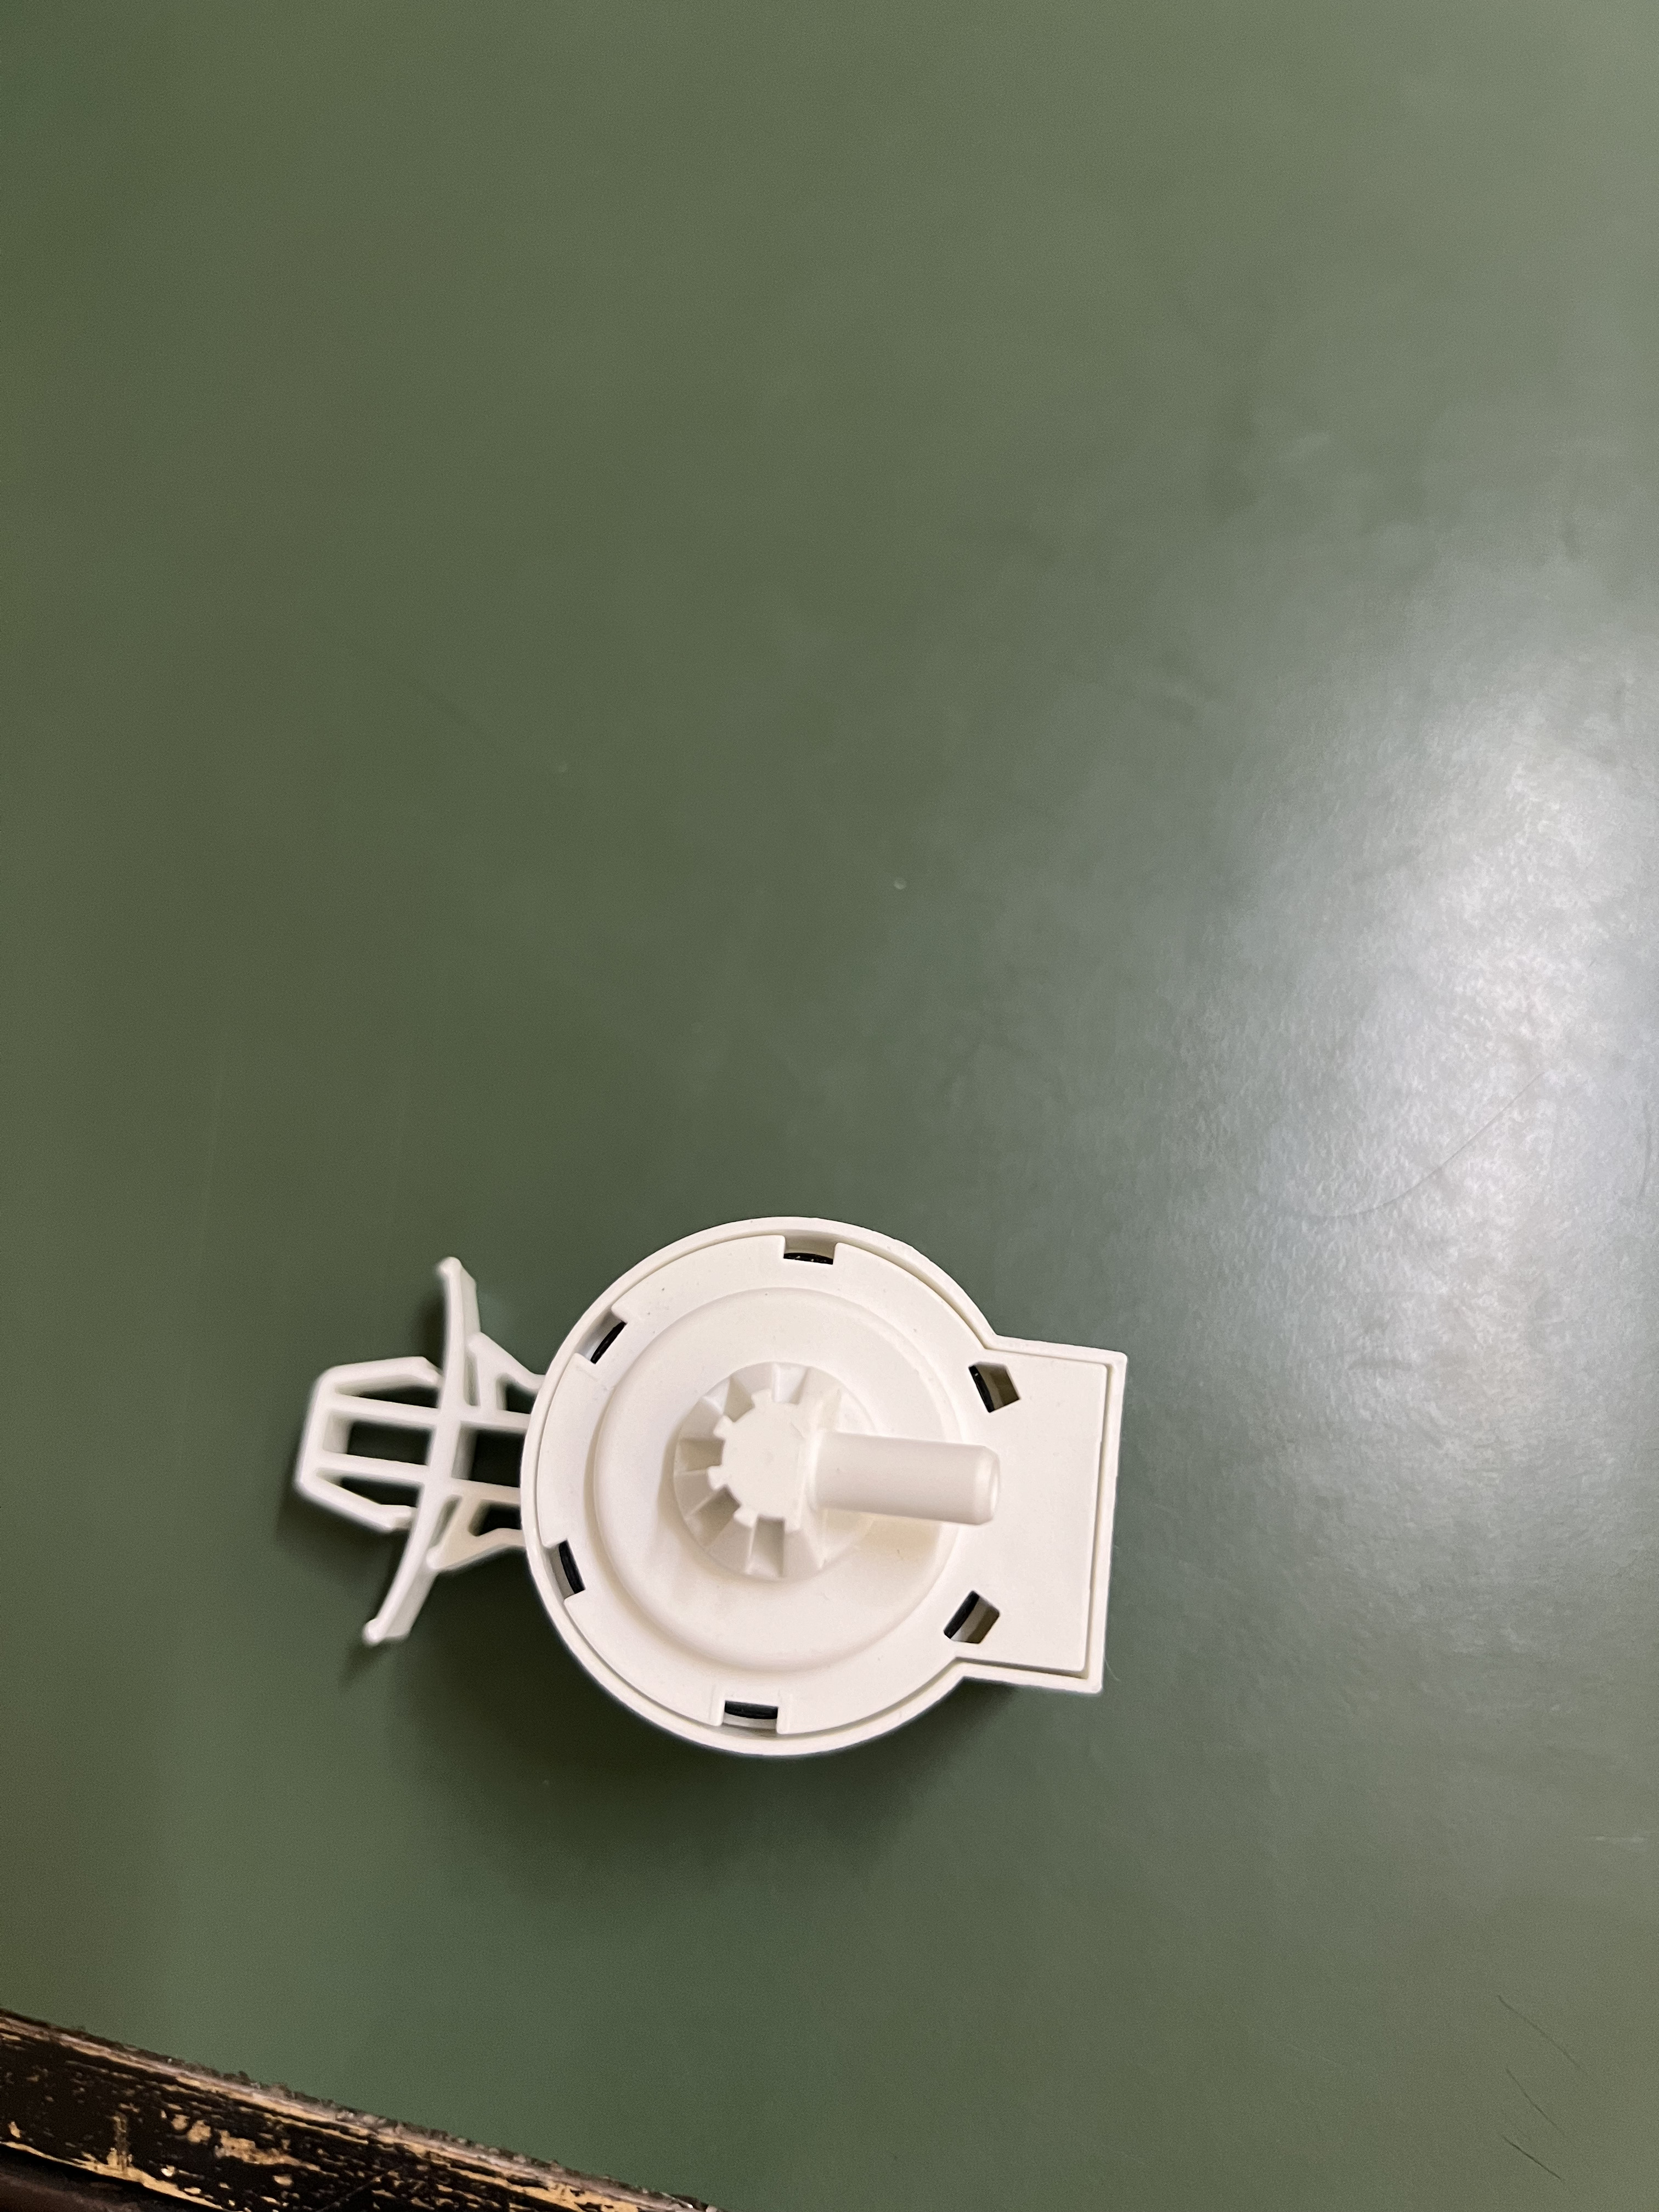pressure_switch_1: (221, 1221, 1173, 1780)
